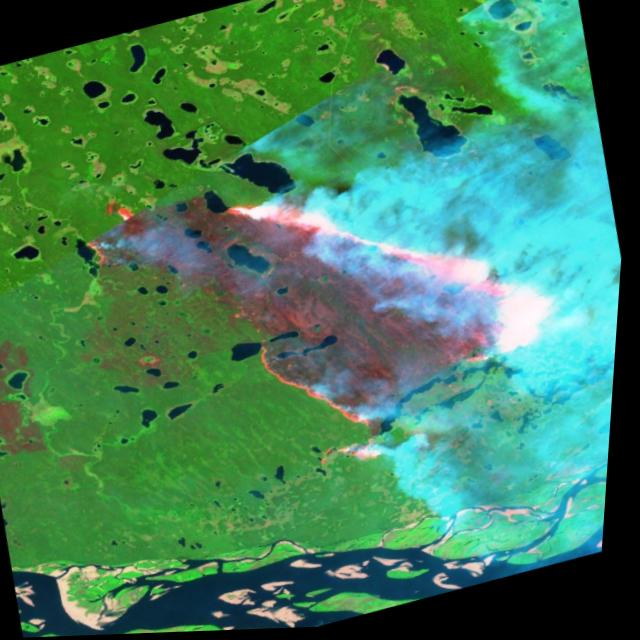fire: (211, 128, 593, 491), (69, 192, 157, 274)
